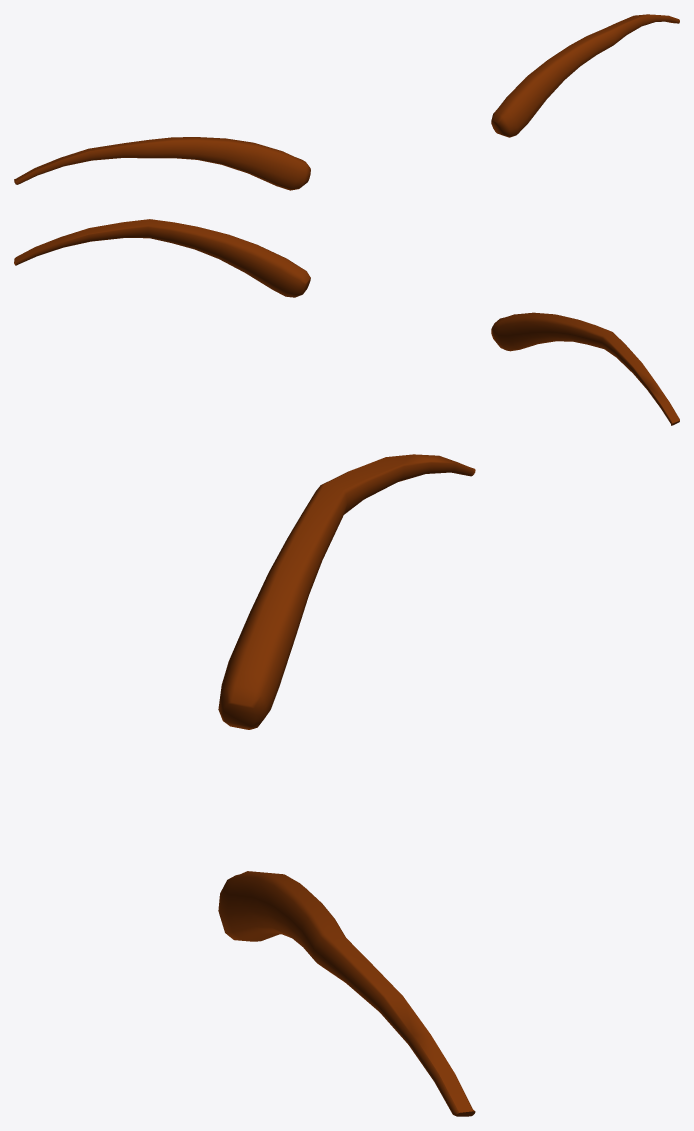
The model's file is Eyebrows_29_02.fbx.
3 renders of one model, top to bottom at view 1: azimuth 30°, elevation 25°; view 2: azimuth 150°, elevation 25°; view 3: azimuth 270°, elevation 25°, orthographic. The views are drawn at different scales.
Parts seen in each view (by area): view 1: Eyebrows_29_02; view 2: Eyebrows_29_02; view 3: Eyebrows_29_02.
Boxes of the visible parts, left/top/right/bottom form: Eyebrows_29_02: left=14, top=14, right=679, bottom=190; Eyebrows_29_02: left=14, top=219, right=679, bottom=425; Eyebrows_29_02: left=218, top=454, right=475, bottom=1116.
Bounding box in the file's own units: 19.88 × 1.77 × 3.33.
